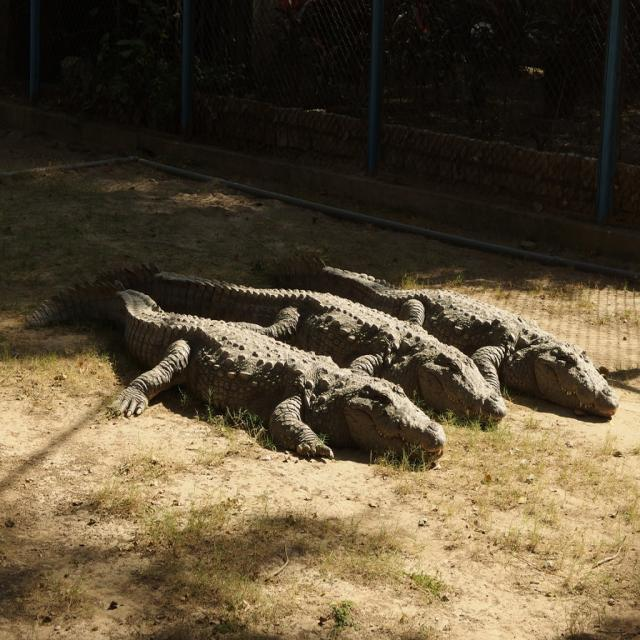crocodile: (36, 254, 621, 469)
